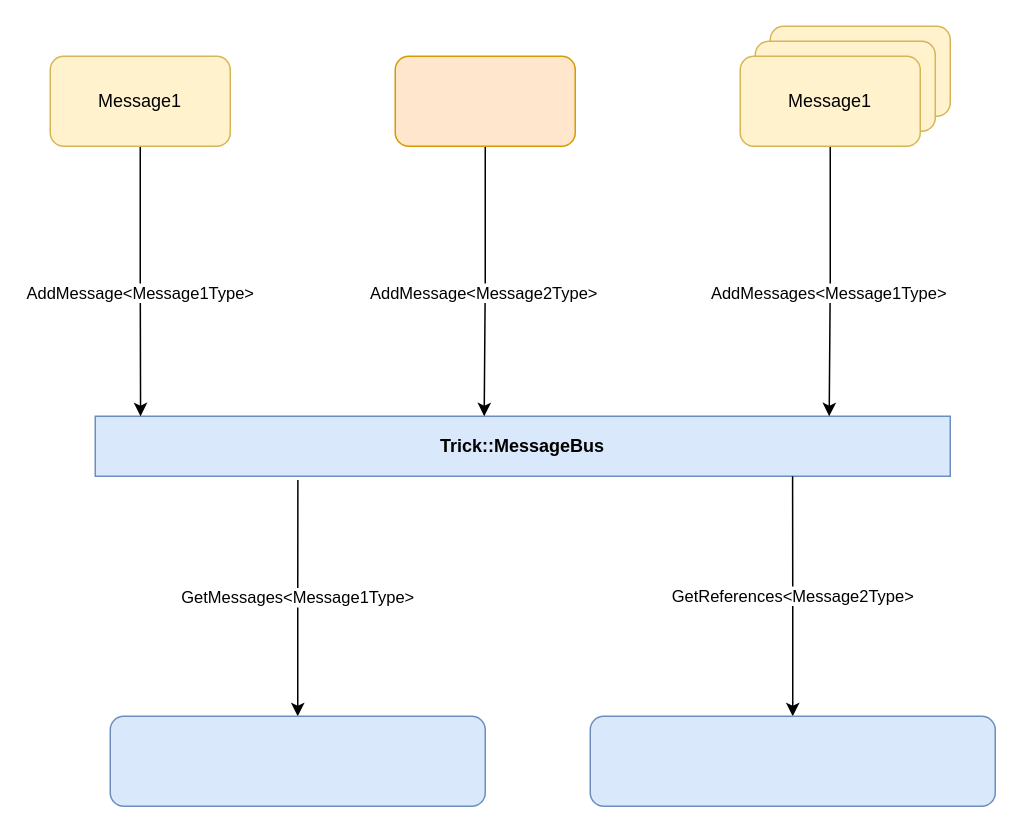
Some shapes in this 1022 by 833 pixel diagram are drawn without their labels. Each missing label, with the centre of its shape:
Message2: pixel 484 100
Trick::Envelope<Message1Type>: pixel 297 760
Trick::MessagesReference<Message2Type>: pixel 792 760
